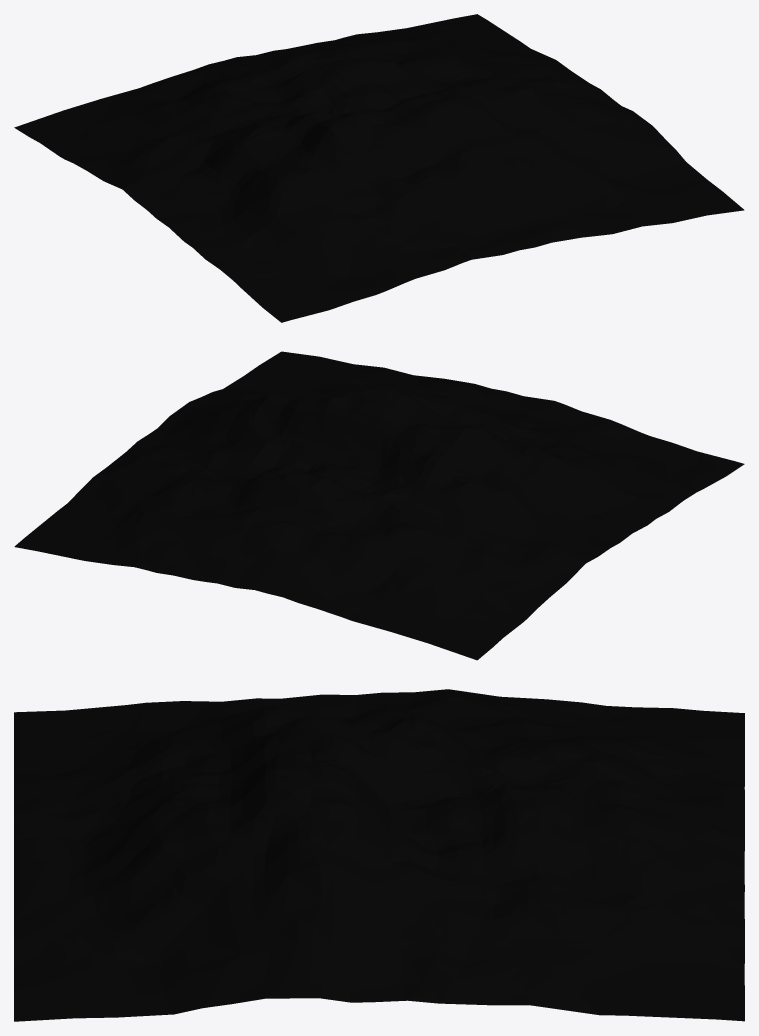
Rendered from land1.obj.
3 views of the same model, one above another, from view 1: azimuth 30°, elevation 25°; view 2: azimuth 150°, elevation 25°; view 3: azimuth 270°, elevation 25° (orthographic). The views are drawn at different scales.
Parts seen in each view (by area): view 1: Plane; view 2: Plane; view 3: Plane.
Part boxes in pixels (left/top/right/bottom): Plane: left=14, top=14, right=744, bottom=322; Plane: left=14, top=351, right=744, bottom=660; Plane: left=14, top=689, right=744, bottom=1021.
Bounding box in the file's own units: 169 × 29.07 × 169.
